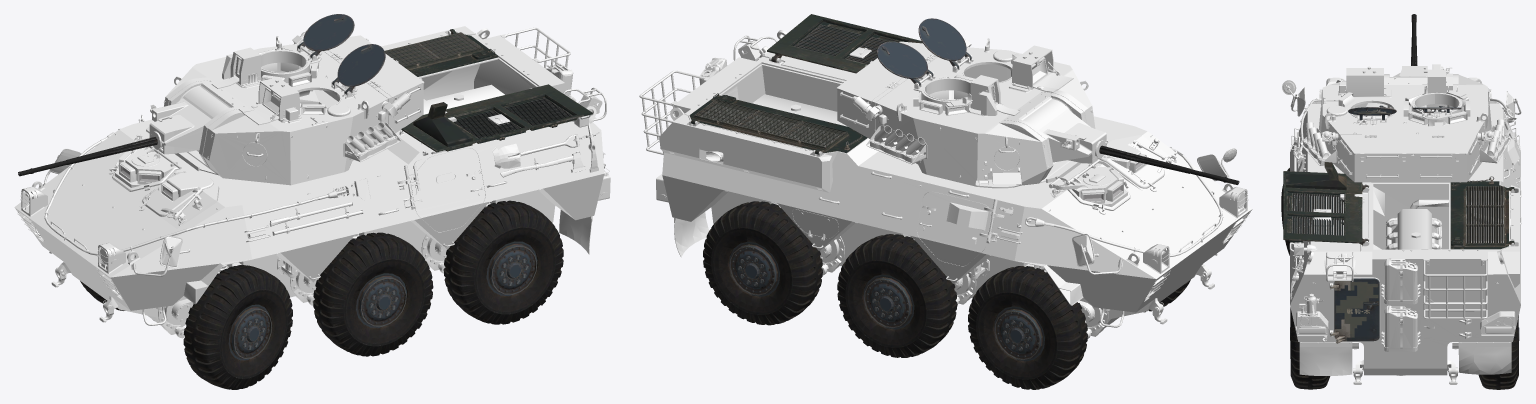
The picture shows the model from 3 angles, left to right: view 1: azimuth 30°, elevation 25°; view 2: azimuth 150°, elevation 25°; view 3: azimuth 270°, elevation 25°; orthographic projection. The views are drawn at different scales.
Visible parts, largest first — view 1: body, 3, 8.004, 8.005, 8.003, 15, 13, 2, 14, 6, 4, 5 (+1 smaller); view 2: body, 3, 8, 8.001, 8.002, 14, 15, 9, 2, 6, 4, 5 (+2 smaller); view 3: body, 3, 15, 14, 12, 6, 8.005, 11, 8.002, 2, 9, 4 (+1 smaller).
Boxes of the visible parts, box(x1,y1,x2,y2) form: body: box(14, 26, 610, 338); 3: box(164, 30, 423, 185); 8.004: box(313, 232, 433, 356); 8.005: box(443, 200, 563, 324); 8.003: box(183, 265, 292, 389); 15: box(401, 84, 592, 152); 13: box(405, 148, 485, 231); 2: box(146, 86, 300, 154); 14: box(384, 29, 498, 76); 6: box(328, 35, 424, 98); 4: box(332, 44, 385, 94); 5: box(298, 14, 354, 57); body: box(639, 30, 1252, 338); 3: box(837, 38, 1095, 188); 8: box(968, 266, 1087, 389); 8.001: box(837, 234, 957, 357); 8.002: box(703, 201, 822, 325); 14: box(689, 93, 867, 154); 15: box(767, 14, 922, 73); 9: box(917, 191, 996, 265); 2: box(1023, 99, 1107, 163); 6: box(836, 41, 934, 102); 4: box(918, 18, 971, 68); 5: box(876, 41, 933, 85); body: box(1282, 77, 1521, 384); 3: box(1300, 66, 1510, 182); 15: box(1283, 162, 1368, 245); 14: box(1450, 176, 1514, 249); 12: box(1330, 278, 1379, 343); 6: box(1340, 135, 1476, 157); 8.005: box(1290, 307, 1330, 389); 11: box(1420, 316, 1467, 338); 8.002: box(1478, 317, 1519, 389); 2: box(1389, 64, 1452, 115); 9: box(1505, 128, 1520, 189); 4: box(1348, 105, 1396, 120).
Bounding box in the file's own units: 44.28 × 20.55 × 18.57.
Materials: 21 (20 with a texture image).
